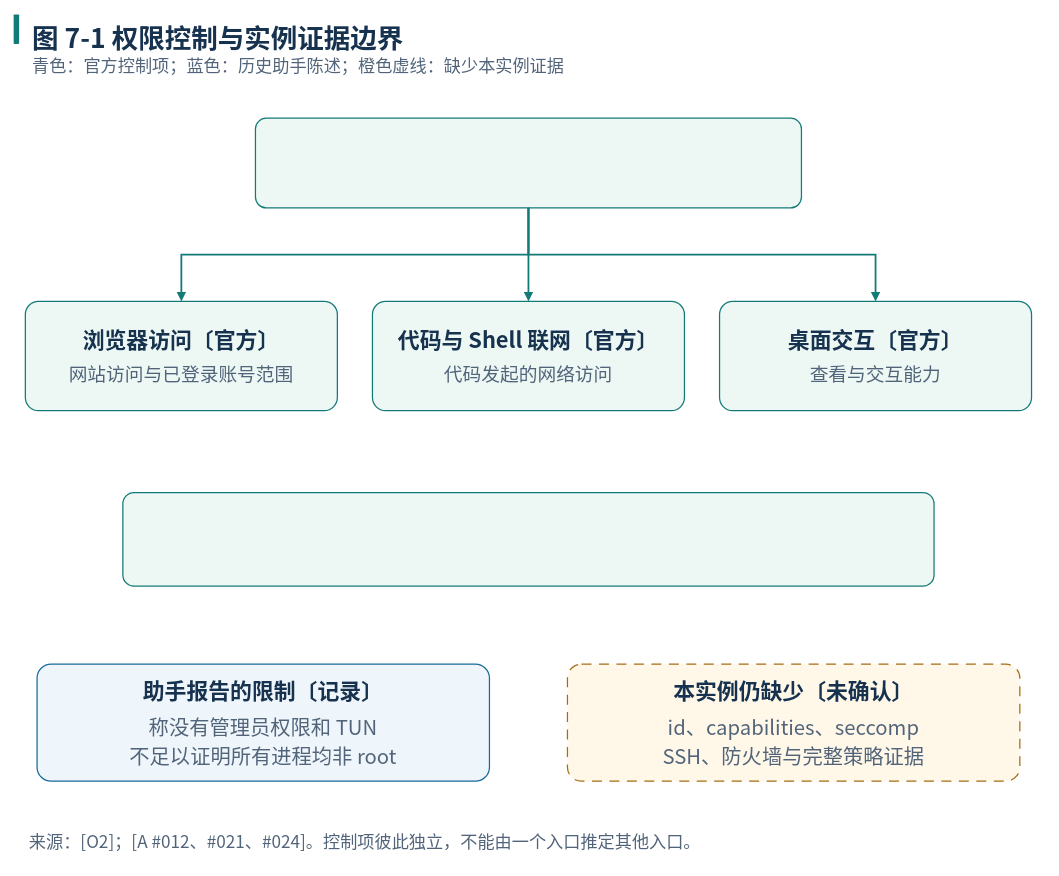
This 1059x876 diagram has some shape labels left out. Each missing label, with the centre of its shape:
"拥有者授权与适用工作区规则〔官方〕 连接的账号权限与动作限制共同约束任务" belongs at (x=528, y=162).
"需要审查的动作适用 Auto-review〔官方〕 此框表示动作审查机制，不是网络代理或某个已确认的本地进程" belongs at (x=528, y=539).
